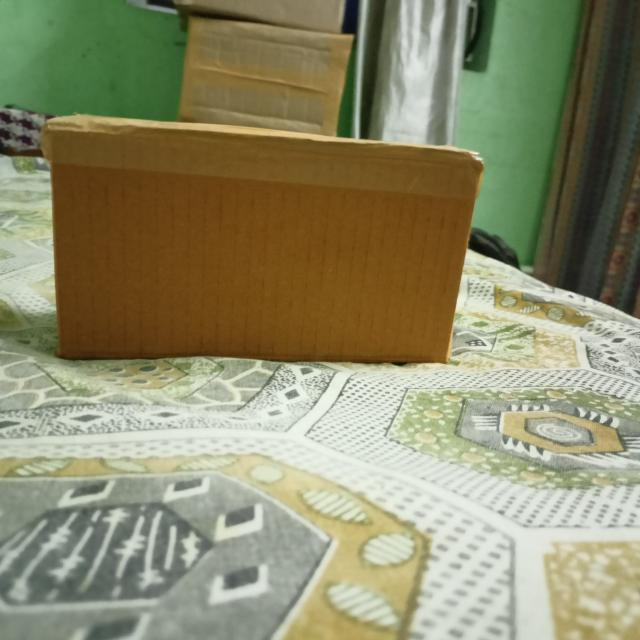box: (48, 126, 486, 360)
